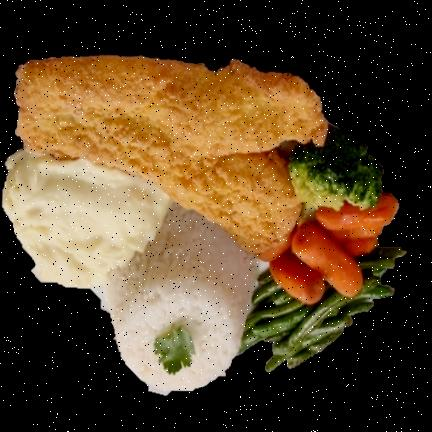broccoli: (288, 124, 382, 209)
carrot: (257, 194, 397, 303)
chicken: (15, 54, 327, 252)
green_beans: (237, 246, 405, 371)
potato: (1, 149, 171, 287)
rice: (103, 204, 256, 390)
